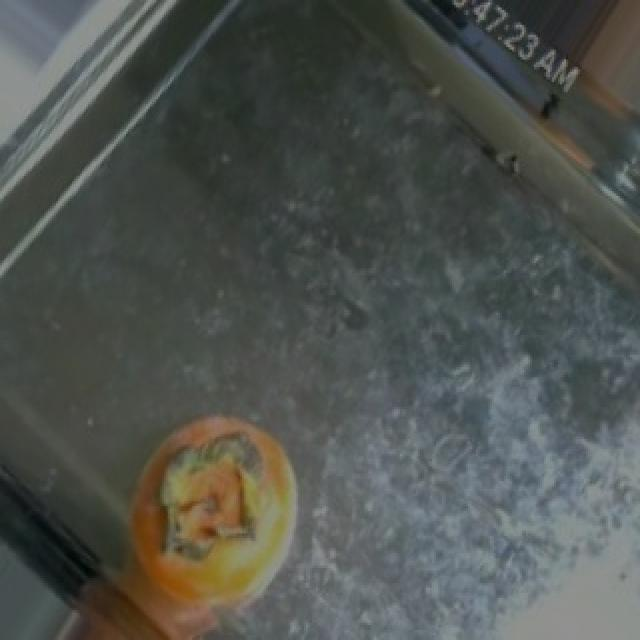Fruit: (98, 394, 316, 635), (562, 0, 640, 169)
